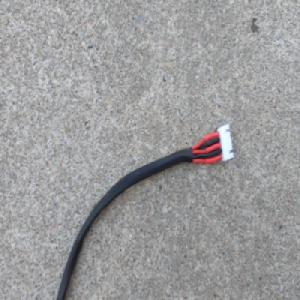Wire: (54, 121, 234, 300)
